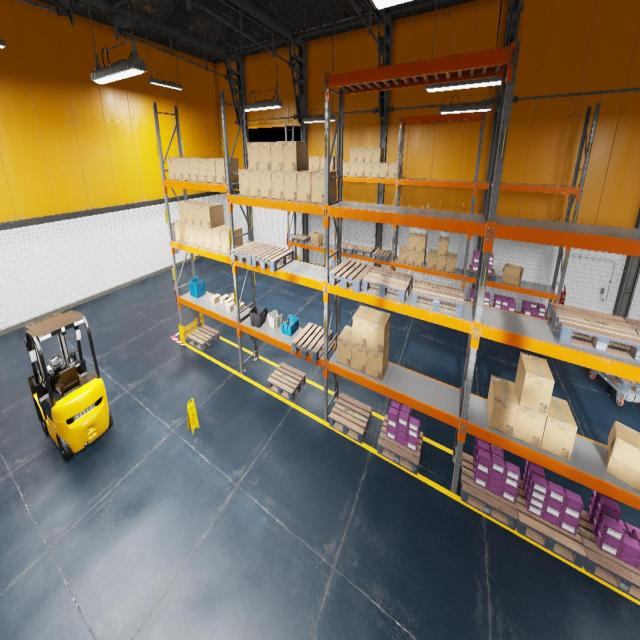box: (515, 352, 554, 415), (540, 396, 578, 460), (606, 421, 640, 492), (513, 383, 547, 447), (487, 375, 519, 436), (367, 309, 391, 354), (352, 304, 375, 348), (366, 340, 389, 381), (311, 171, 336, 203), (283, 141, 308, 171), (297, 170, 319, 202), (337, 325, 352, 367), (220, 227, 243, 254), (214, 158, 238, 183), (201, 203, 224, 228), (185, 200, 206, 225), (178, 200, 200, 223), (502, 263, 524, 286), (211, 224, 229, 252), (351, 342, 367, 373), (193, 202, 213, 226), (206, 158, 224, 182), (270, 142, 284, 170), (284, 171, 297, 201), (197, 158, 213, 182), (258, 142, 271, 170), (272, 171, 284, 199), (247, 142, 259, 170), (238, 168, 250, 196), (260, 171, 272, 198), (249, 170, 260, 197), (445, 252, 457, 272), (437, 236, 449, 256), (189, 158, 199, 181), (181, 157, 191, 180), (195, 225, 205, 248), (203, 227, 213, 249), (416, 233, 427, 252), (174, 158, 183, 180), (167, 158, 176, 180), (415, 249, 426, 267), (427, 250, 437, 269), (408, 232, 418, 251), (188, 224, 197, 245), (174, 219, 182, 242), (398, 245, 408, 263), (436, 255, 447, 271), (388, 162, 399, 178), (312, 232, 324, 246), (372, 148, 384, 162), (181, 223, 189, 243), (406, 250, 416, 265), (224, 293, 234, 306), (380, 162, 388, 178), (364, 162, 372, 178), (372, 162, 380, 178), (364, 148, 372, 162), (357, 148, 365, 162), (356, 162, 364, 176), (349, 162, 357, 176), (210, 294, 221, 304), (226, 300, 235, 312), (220, 294, 230, 304), (234, 302, 245, 311), (350, 148, 357, 162), (330, 156, 337, 169), (343, 162, 349, 176), (314, 156, 320, 169), (308, 156, 314, 169), (320, 156, 324, 169)
forklift: (23, 310, 112, 461)
pallets: (516, 479, 586, 568), (546, 302, 640, 363), (578, 510, 640, 601), (460, 452, 518, 530), (377, 414, 423, 474), (329, 393, 372, 443), (411, 279, 464, 318), (362, 266, 413, 303), (292, 322, 332, 362), (329, 259, 374, 293), (267, 363, 306, 401), (252, 245, 294, 272), (230, 241, 272, 266), (186, 324, 220, 351), (600, 371, 640, 393), (468, 265, 496, 281), (372, 248, 392, 262), (336, 242, 357, 255), (624, 318, 640, 334), (354, 245, 375, 257), (291, 234, 310, 244)
